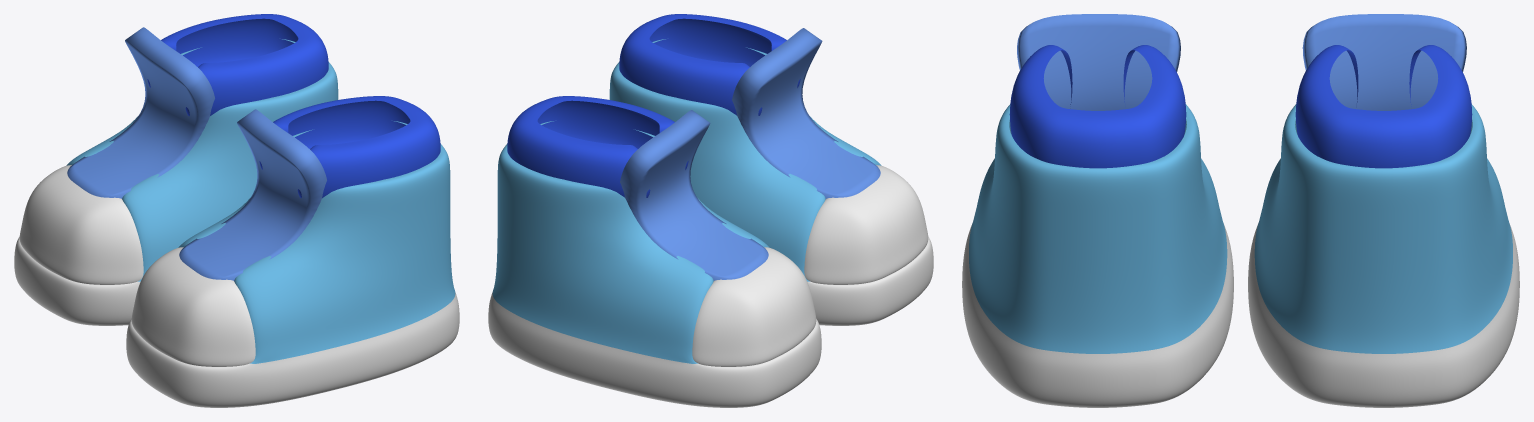
Rendered from sports4.glb.
The picture shows the model from 3 angles, left to right: view 1: azimuth 30°, elevation 25°; view 2: azimuth 150°, elevation 25°; view 3: azimuth 270°, elevation 25°; orthographic projection. The views are drawn at different scales.
Parts seen in each view (by area): view 1: Cube.011; view 2: Cube.011; view 3: Cube.011.
Part boxes in pixels (bbox=[...]): Cube.011: bbox=[14, 14, 459, 407]; Cube.011: bbox=[488, 14, 933, 407]; Cube.011: bbox=[962, 14, 1519, 407].
Size of the model in its own units: 1.13 by 0.8525 by 1.44.
